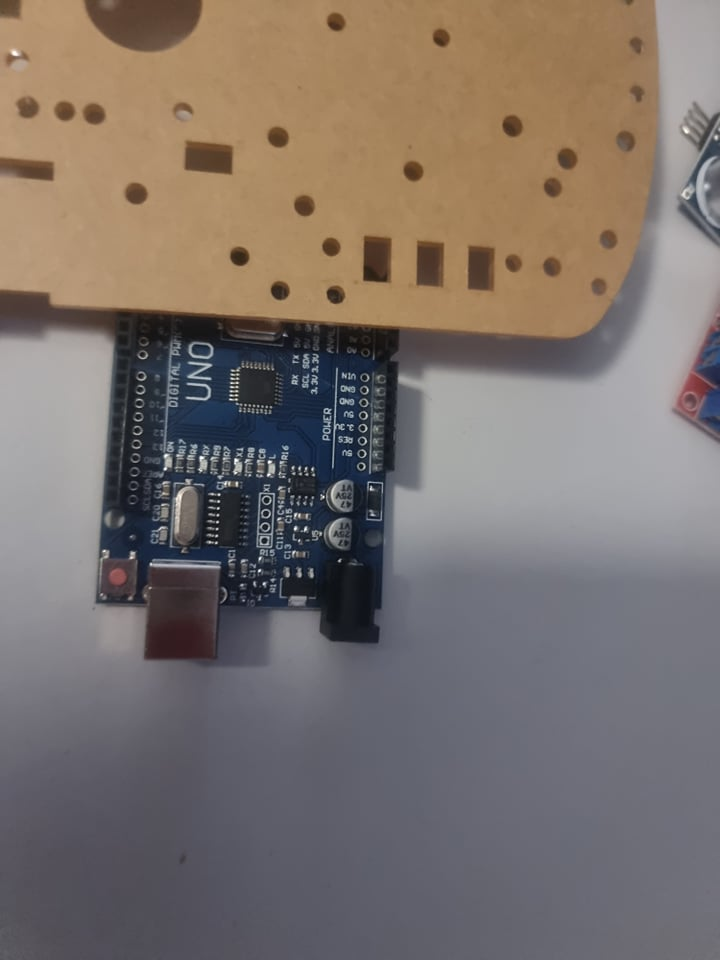UNO R3: (83, 317, 408, 662)
